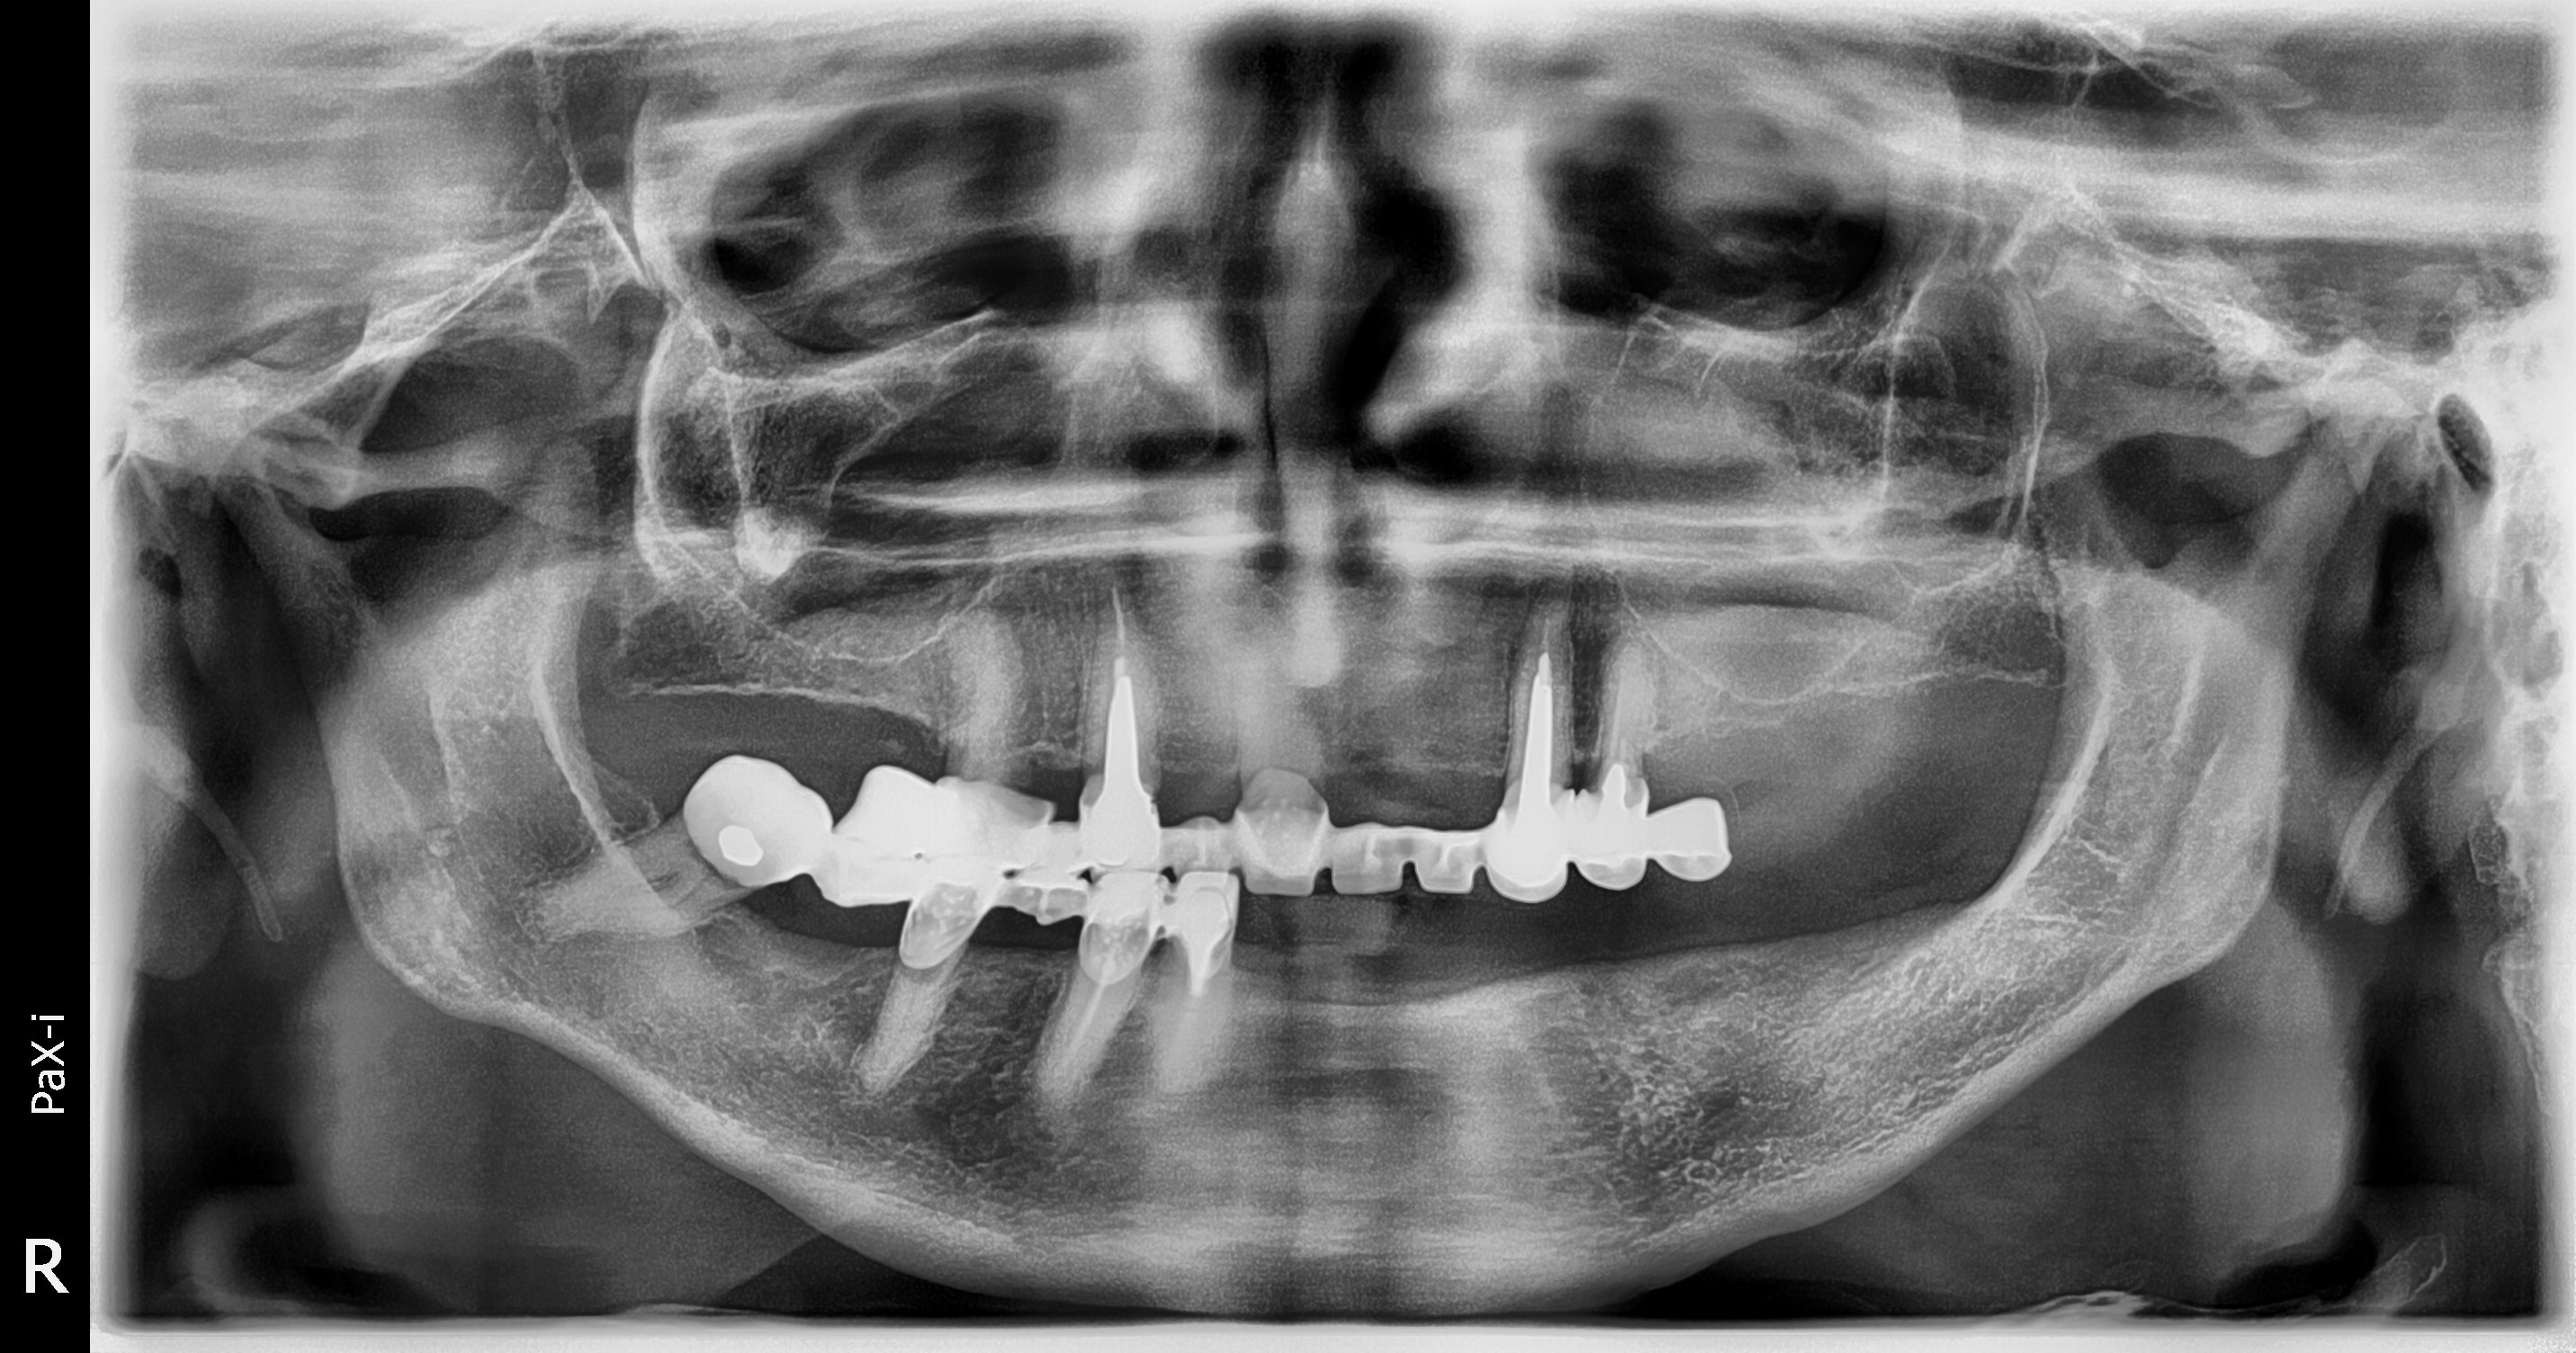CAR: (675, 821, 787, 905), (872, 944, 942, 999), (1544, 763, 1596, 815)
END: (1027, 970, 1135, 1128), (1068, 533, 1148, 705), (1581, 602, 1649, 787), (1515, 586, 1579, 738)
PRR: (663, 738, 1245, 1019), (830, 734, 1799, 891)
